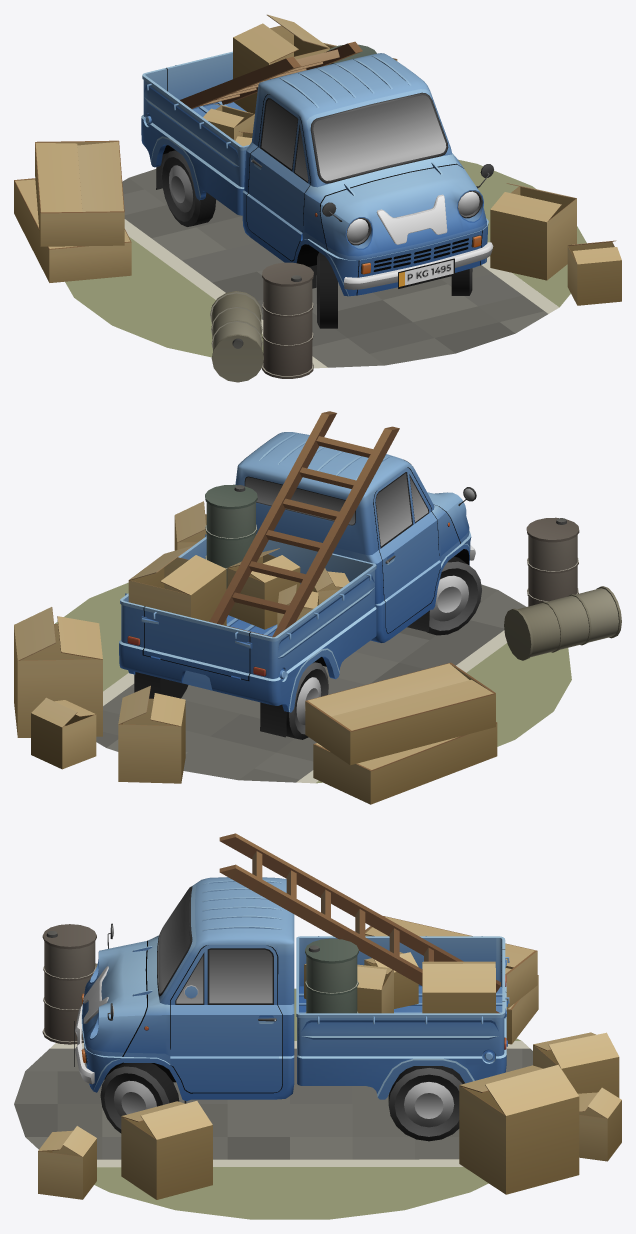
The picture shows the model from 3 angles, top to bottom: view 1: azimuth 30°, elevation 25°; view 2: azimuth 150°, elevation 25°; view 3: azimuth 270°, elevation 25°; orthographic projection. The views are drawn at different scales.
Visible parts, largest first — view 1: Environment, Body, Cube.018, RRW, FRW, Circle.001, FLW; view 2: Environment, Body, Cube.018, FRW, RRW; view 3: Environment, Body, Cube.018, RLW, FLW.
Part boxes in pixels (x1=…): Environment: x1=14, y1=43, x2=621, y2=382; Body: x1=141, y1=51, x2=493, y2=296; Cube.018: x1=180, y1=14, x2=376, y2=146; RRW: x1=161, y1=150, x2=216, y2=226; FRW: x1=316, y1=252, x2=337, y2=328; Circle.001: x1=398, y1=258, x2=454, y2=288; FLW: x1=451, y1=268, x2=472, y2=295; Environment: x1=14, y1=501, x2=621, y2=804; Body: x1=119, y1=432, x2=476, y2=737; Cube.018: x1=128, y1=411, x2=399, y2=637; FRW: x1=427, y1=556, x2=481, y2=635; RRW: x1=286, y1=662, x2=328, y2=739; Environment: x1=14, y1=916, x2=621, y2=1219; Body: x1=75, y1=877, x2=509, y2=1103; Cube.018: x1=219, y1=833, x2=500, y2=1013; RLW: x1=388, y1=1066, x2=464, y2=1141; FLW: x1=100, y1=1063, x2=179, y2=1133.
Size of the model in its own units: 385 by 183 by 422.
Materials: 3 (3 with a texture image).
